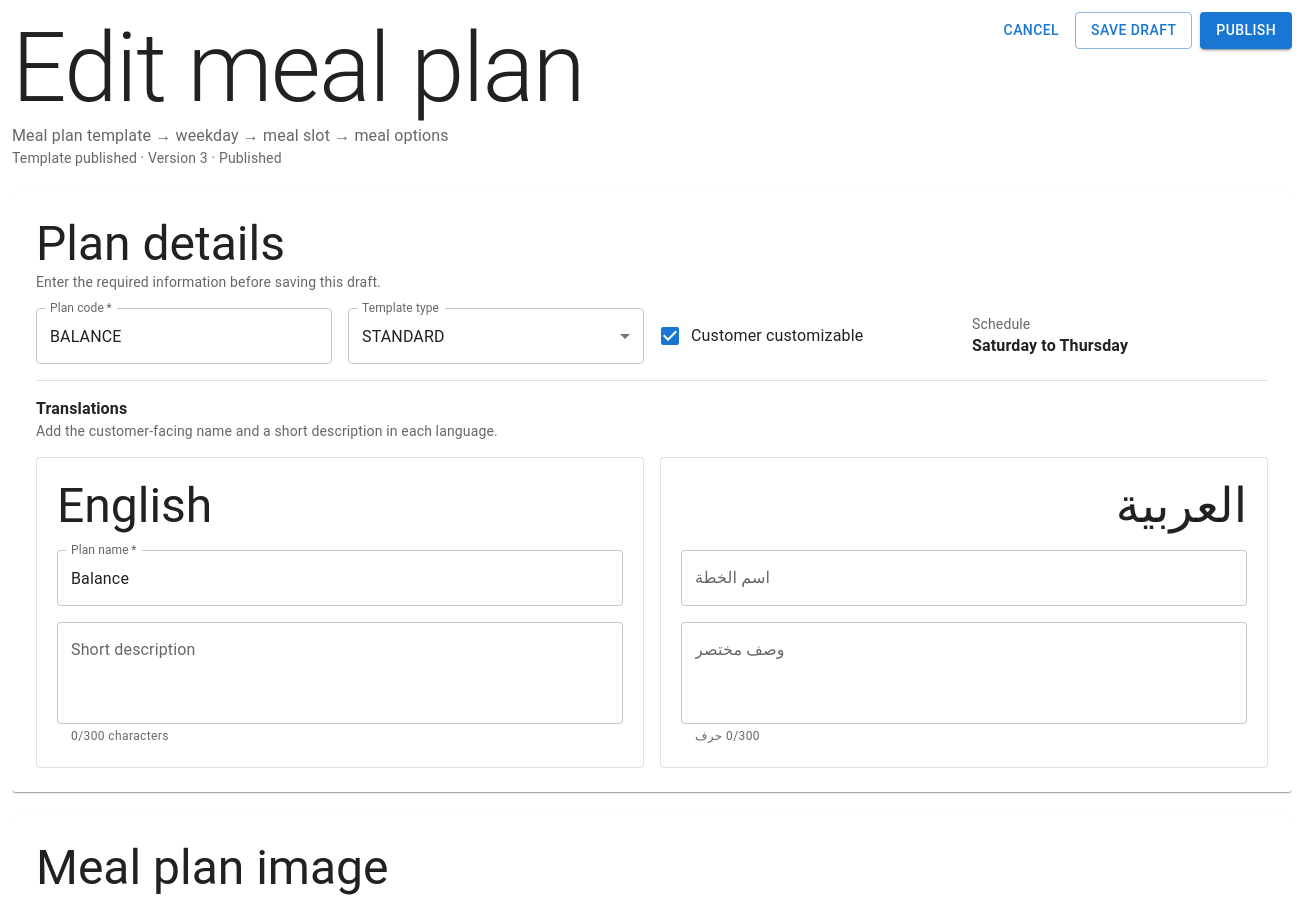
saved menu slots › shows the server pricing review message when publication is blocked
Step 1. Click the button "Publish" → (1246, 30), box [1200,12,1292,48]
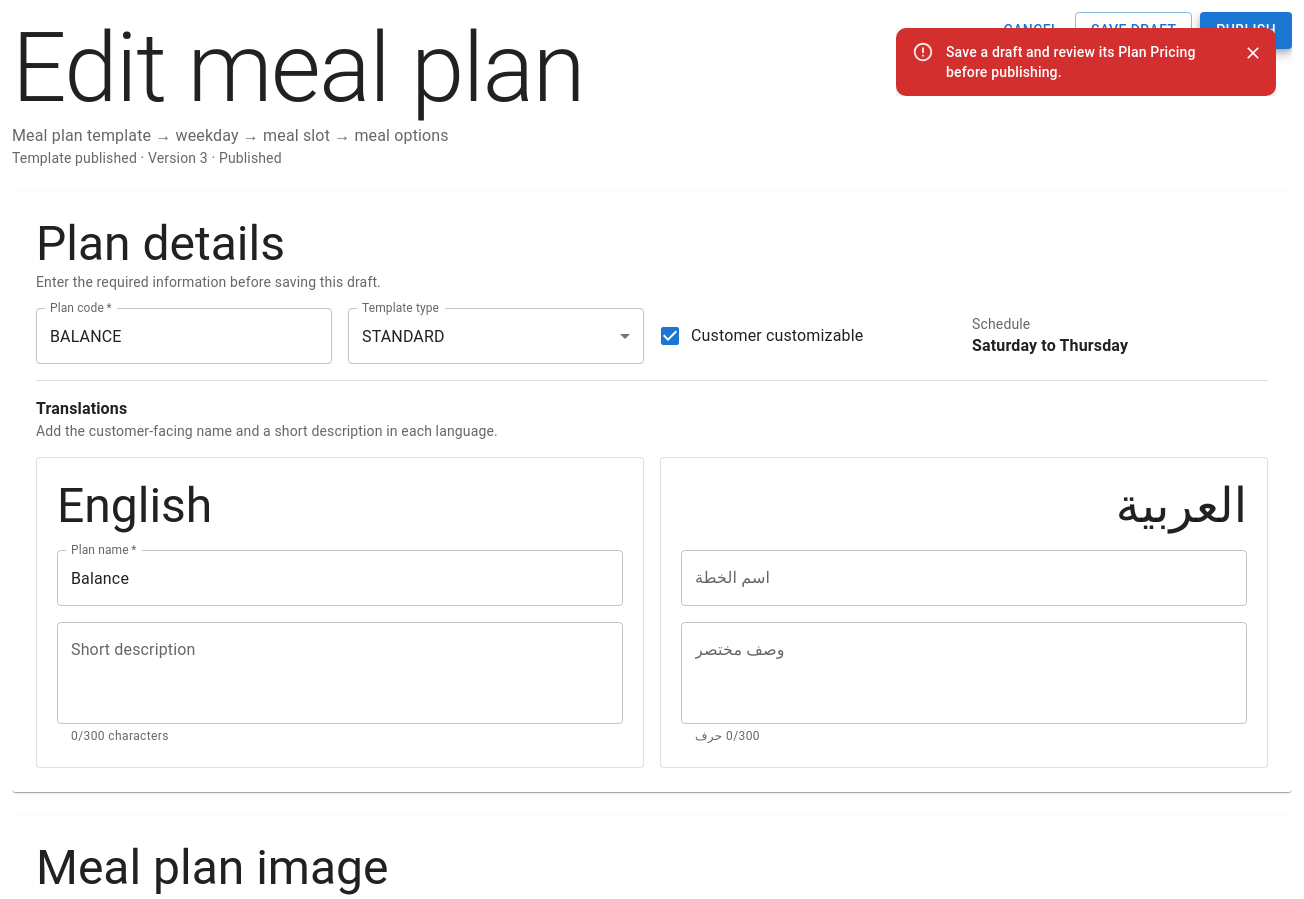
Expected: the button "Save draft" is enabled, [1075,12,1192,48]
Expected: the text "Save a draft and review its Plan Pricing before publishing." is shown, [946,34,1222,90]
